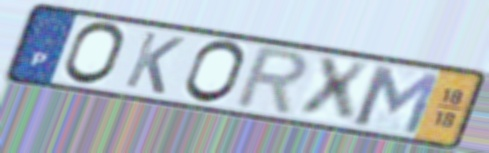K: (121, 28, 189, 97)
M: (351, 62, 444, 138)
O: (59, 20, 128, 88), (180, 38, 248, 106)
R: (229, 44, 313, 120)
X: (296, 55, 373, 125)
